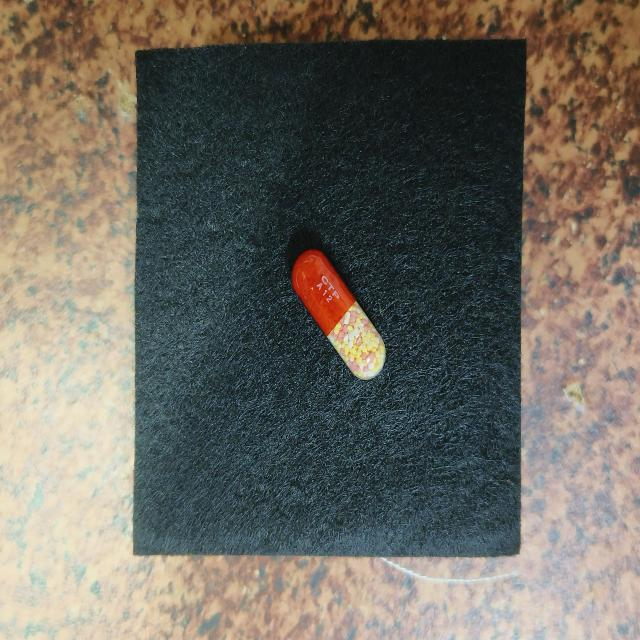Intact Capsule: (291, 249, 385, 380)
